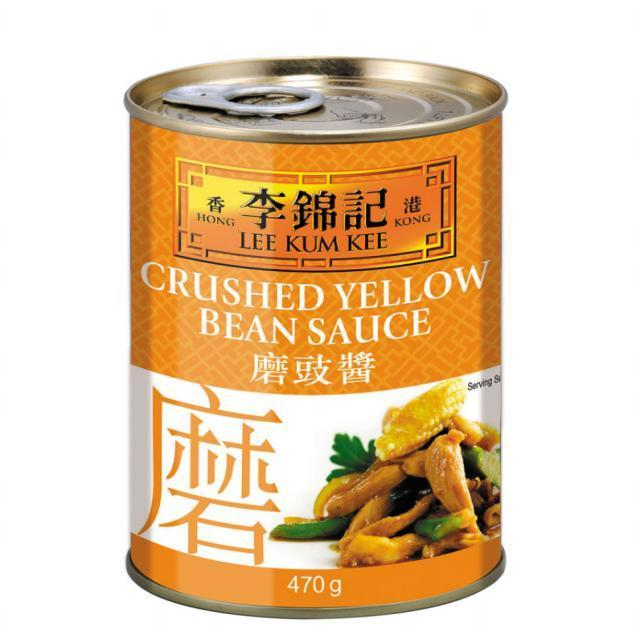metal-can: (123, 57, 510, 618)
